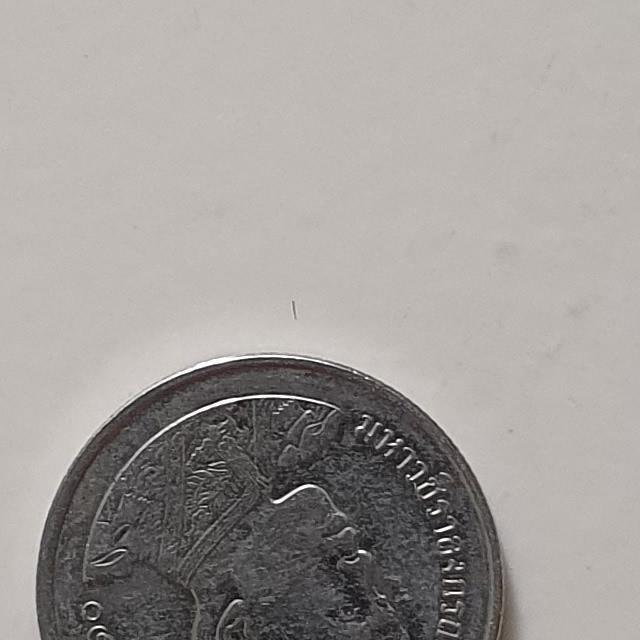1 Bath: (32, 345, 514, 640)
